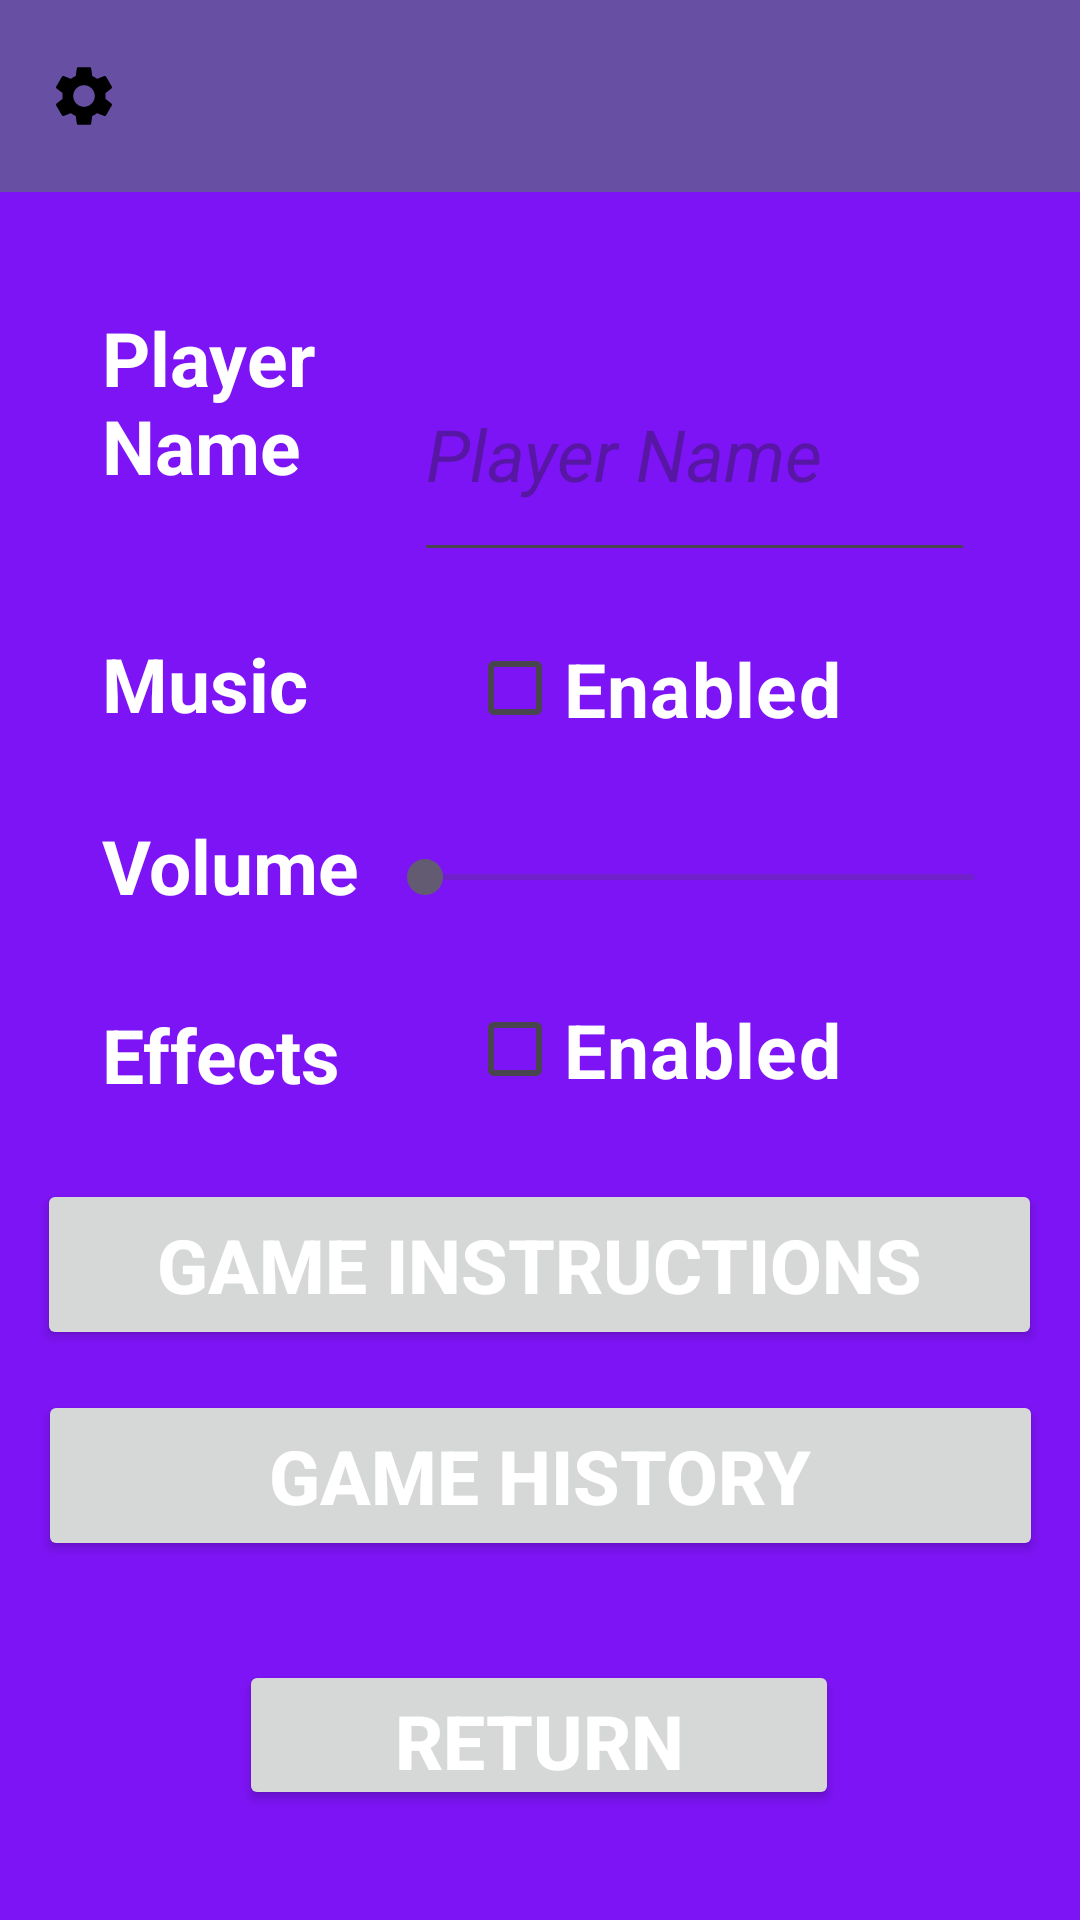

Screen size 1080 × 1920. Icon name, then its center in pixels as [x,y]:
settings: [84,96]
